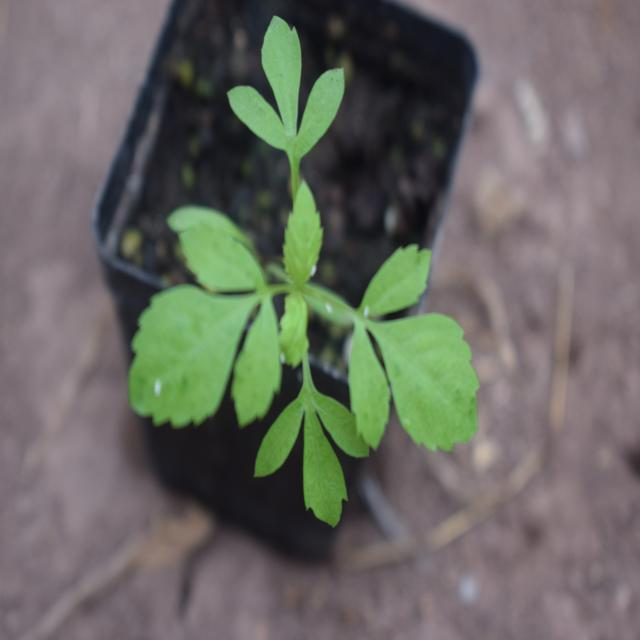Bidens pilosa: (111, 41, 482, 497)
